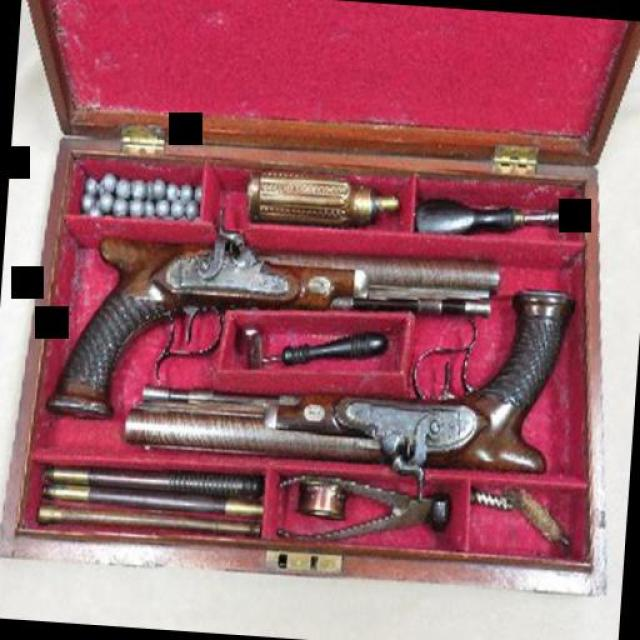gun: (42, 196, 504, 446), (118, 259, 578, 481)
